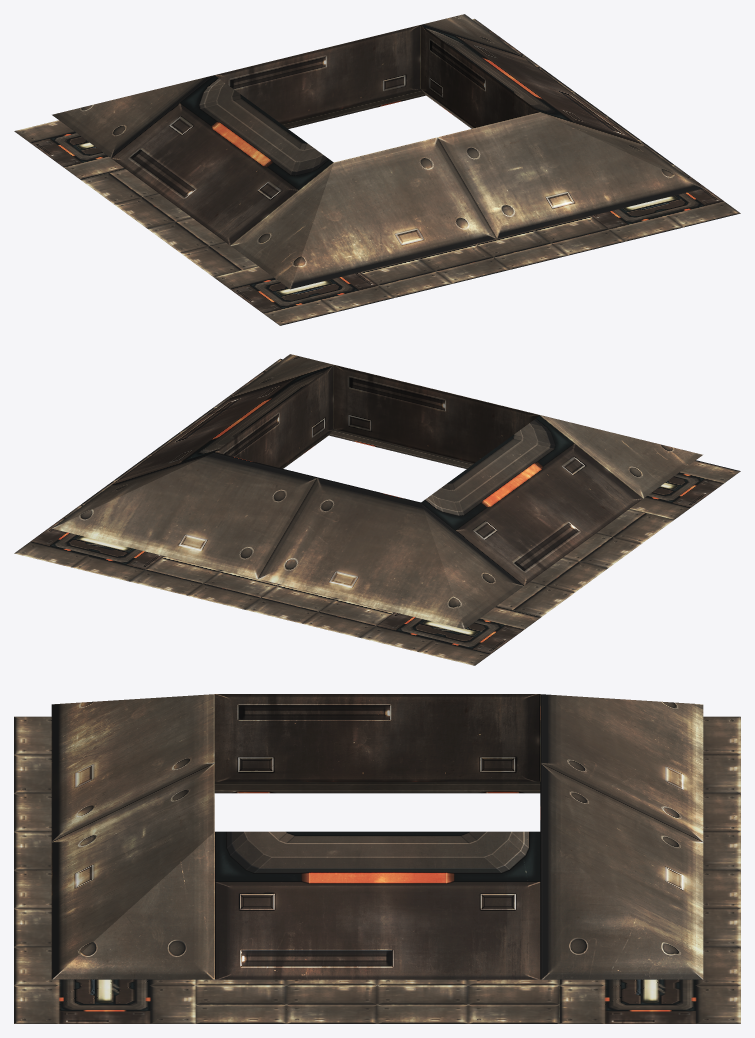
Rendered from mpr_ceiling_glass.FBX.
The picture shows the model from 3 angles, top to bottom: view 1: azimuth 30°, elevation 25°; view 2: azimuth 150°, elevation 25°; view 3: azimuth 270°, elevation 25°; orthographic projection. The views are drawn at different scales.
Parts seen in each view (by area): view 1: mpr_ceiling_glass; view 2: mpr_ceiling_glass; view 3: mpr_ceiling_glass.
Boxes of the visible parts, x1,y1,x2,y2 form: mpr_ceiling_glass: (14, 14, 740, 325); mpr_ceiling_glass: (14, 354, 740, 665); mpr_ceiling_glass: (14, 694, 740, 1023).
Size of the model in its own units: 1472 by 240 by 1472.
1 material, 1 textured.
